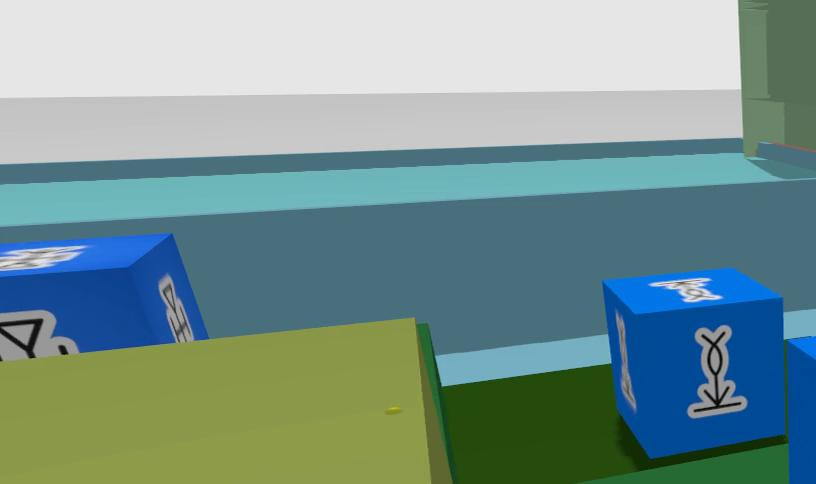KFS_REAL: (602, 268, 783, 456), (0, 235, 207, 361), (688, 327, 746, 418), (787, 336, 816, 484), (0, 312, 79, 360), (159, 275, 197, 339), (649, 278, 722, 302)
